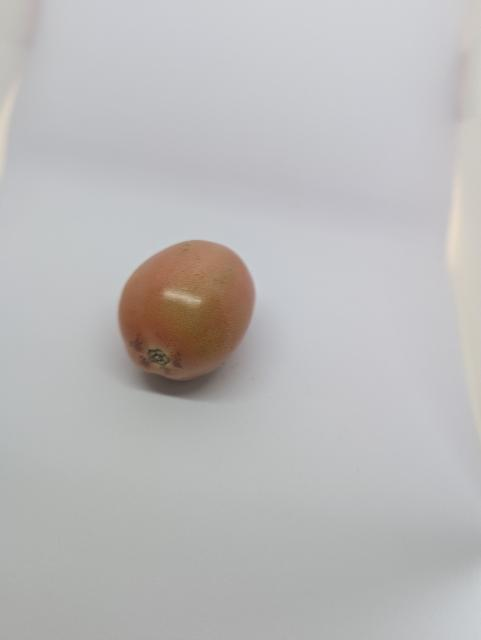turning: (115, 236, 264, 386)
